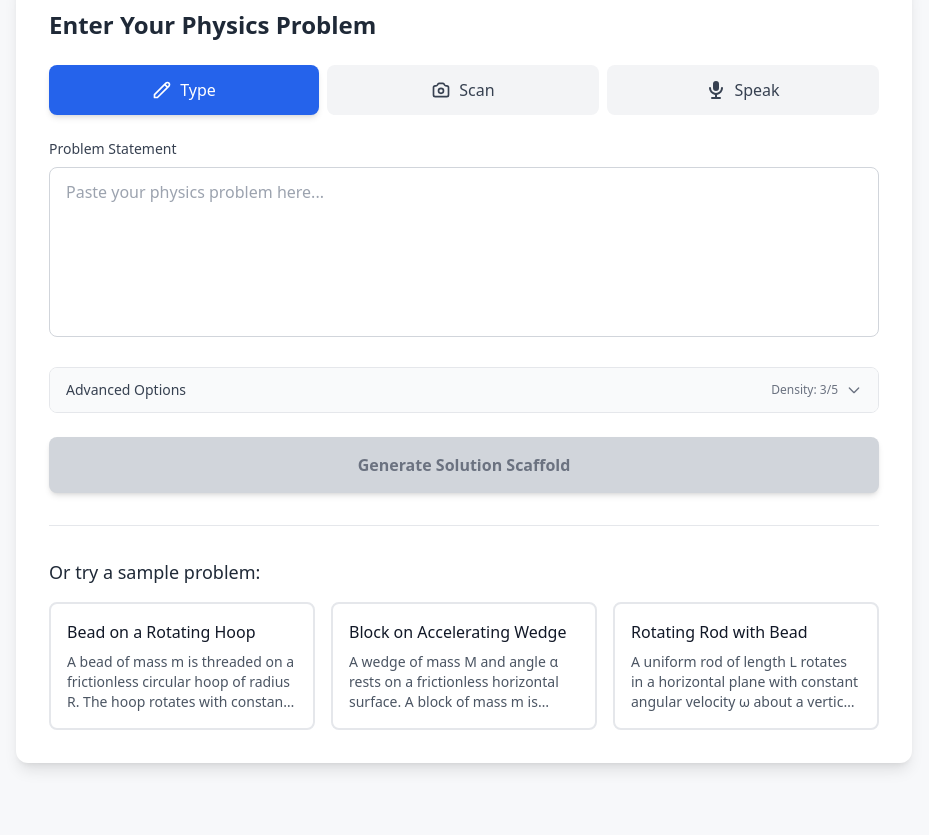
Test case: ProblemInput › shows a validation error when the problem is too short
Type "Too short" into the text box labelled "Problem Statement" at (464, 252), box x1=49 y1=167 x2=879 y2=337
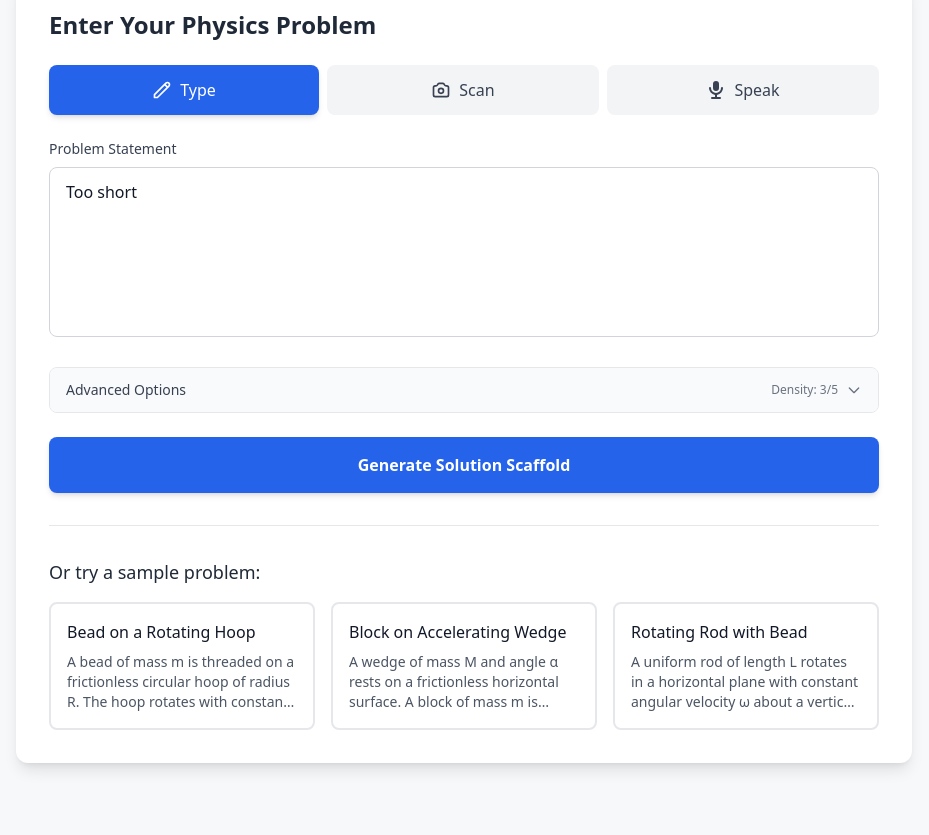
Click the button "Generate Solution Scaffold" at (464, 465), box x1=49 y1=437 x2=879 y2=493
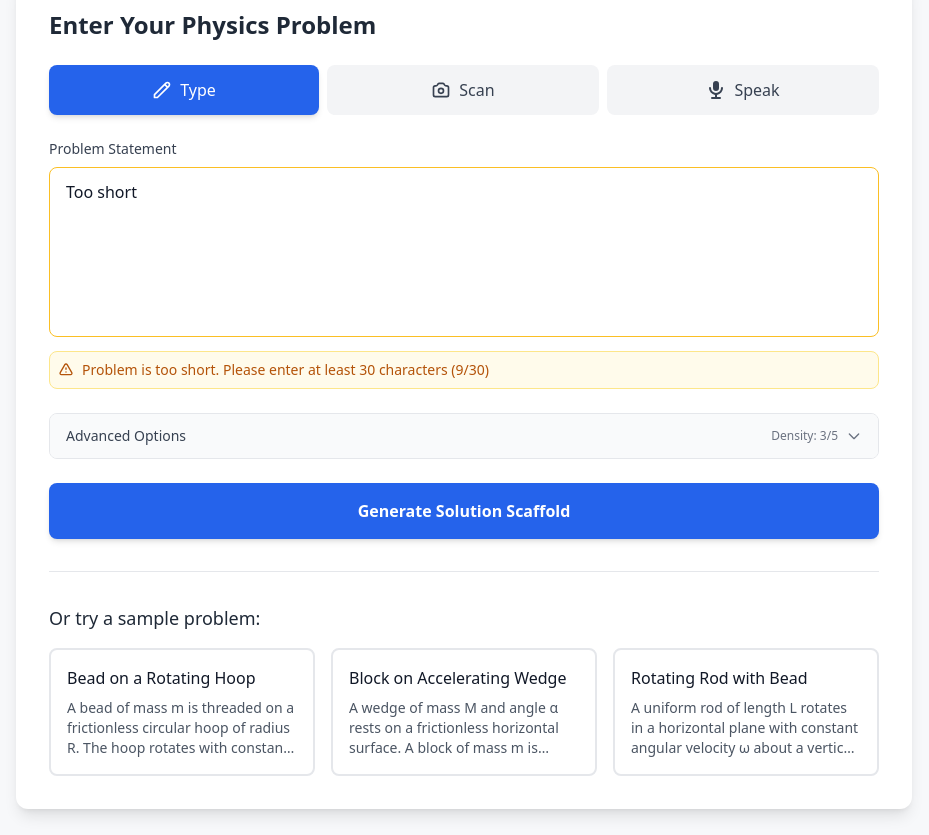
Expected: the text "Problem is too short" is shown, x1=82 y1=360 x2=489 y2=379
